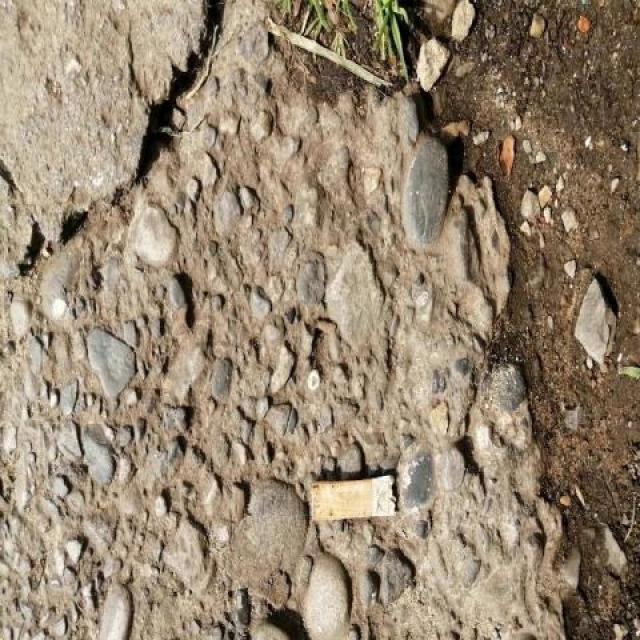non-organic waste: (304, 464, 404, 527)
